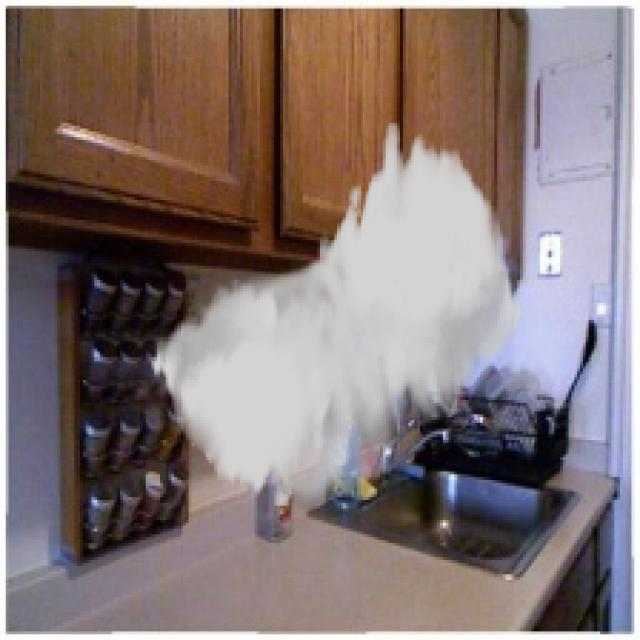smoke: (148, 123, 523, 508)
